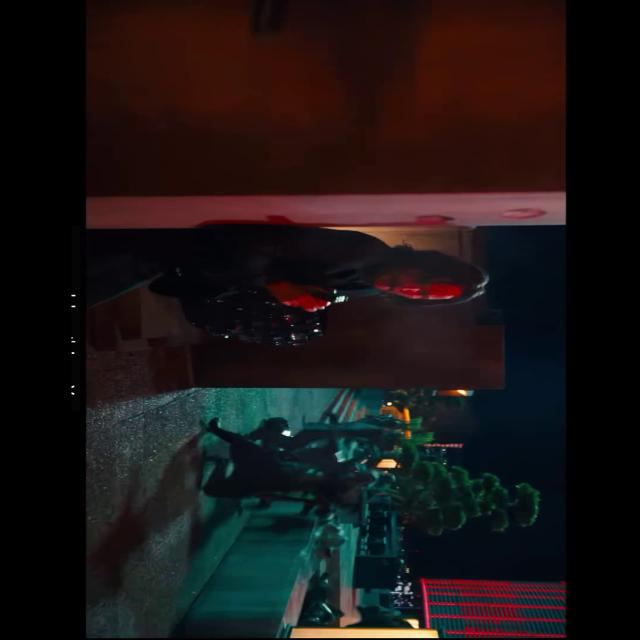weapons: (256, 274, 362, 315)
